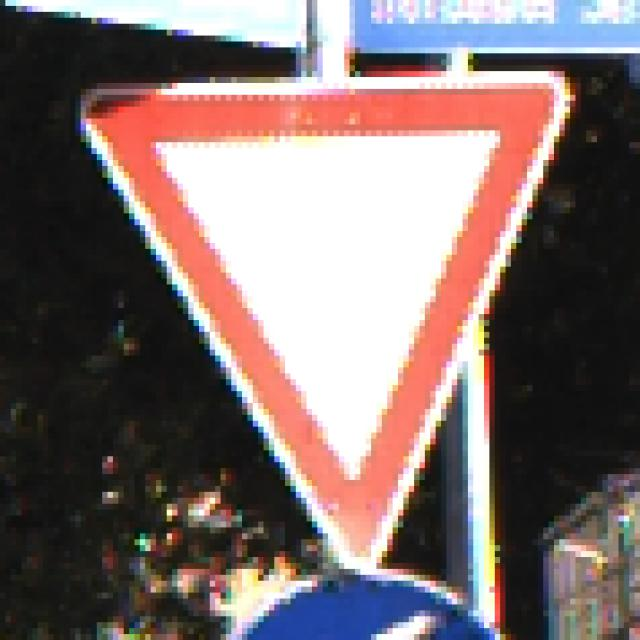Give Way: (60, 60, 587, 588)
